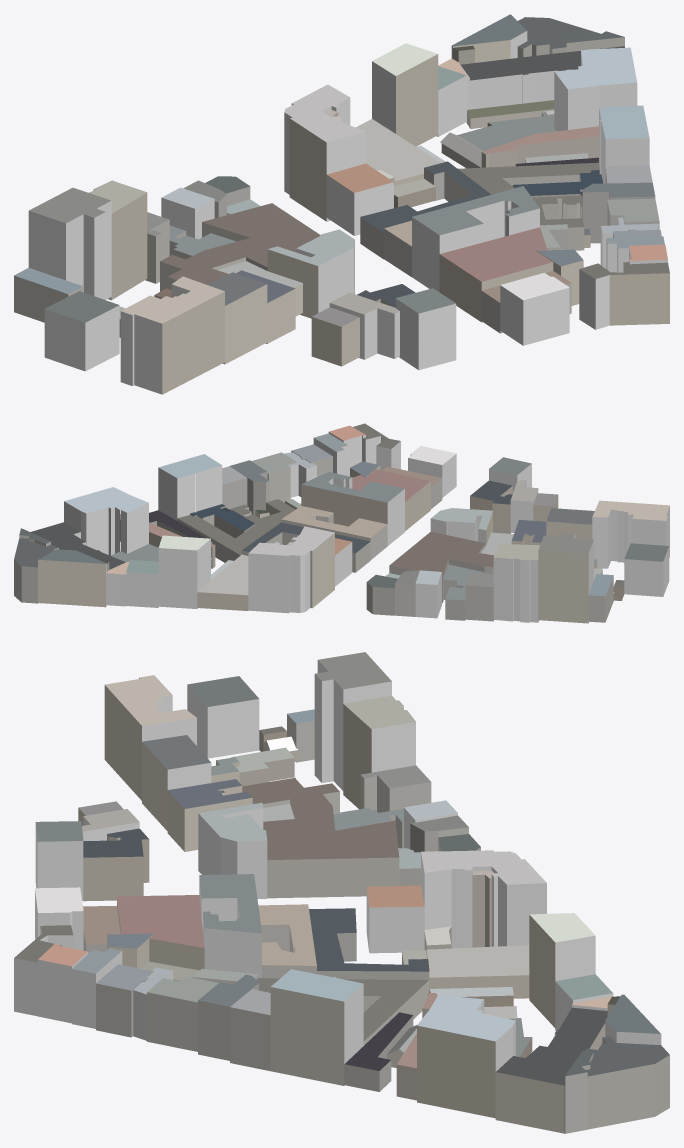
The picture shows the model from 3 angles, top to bottom: view 1: azimuth 30°, elevation 25°; view 2: azimuth 150°, elevation 25°; view 3: azimuth 270°, elevation 25°; orthographic projection. The views are drawn at different scales.
Parts seen in each view (by area): view 1: tuile; view 2: tuile; view 3: tuile.
Part boxes in pixels (x1,y1,x2,y2): tuile: (14,14,669,394); tuile: (14,423,669,623); tuile: (14,652,669,1133).
Bounding box in the file's own units: 235 × 36.24 × 172.
